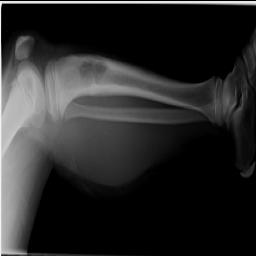cancer: (63, 60, 111, 90)
